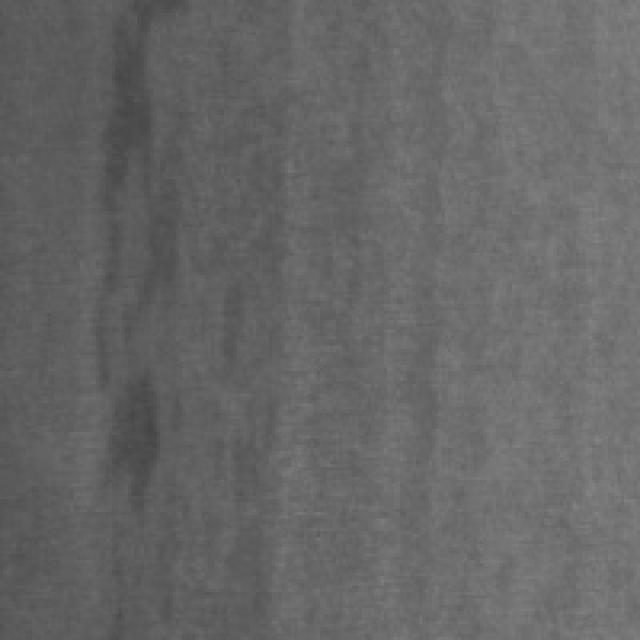inclusion: (68, 0, 182, 547)
